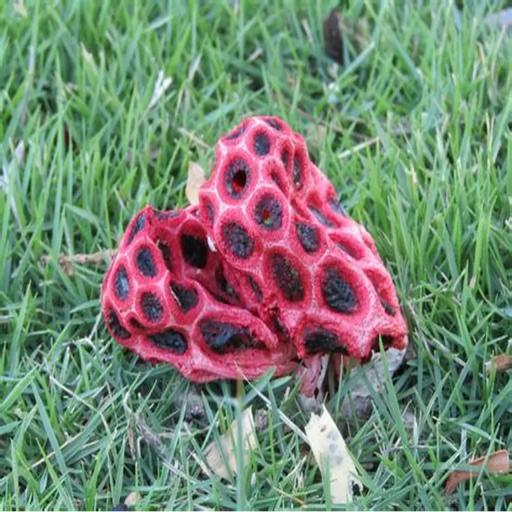mushroom: (108, 116, 417, 398)
